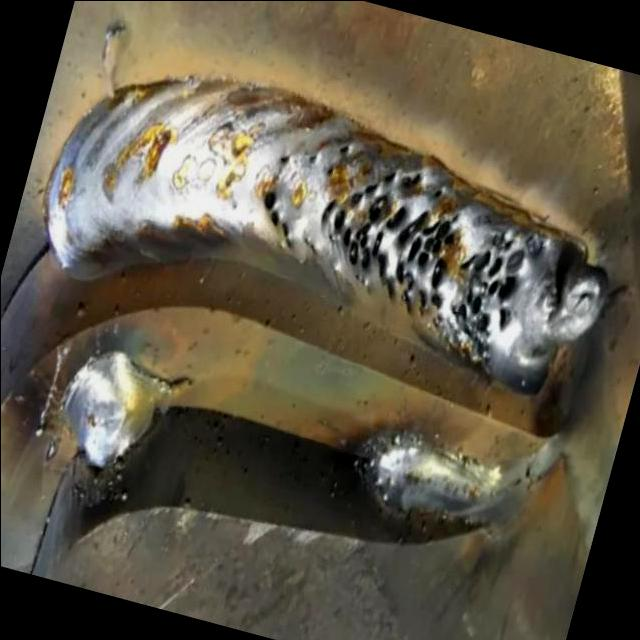defect: (315, 163, 544, 382), (257, 182, 302, 254), (276, 148, 292, 173), (337, 142, 351, 157), (307, 150, 318, 167), (325, 163, 335, 178)
